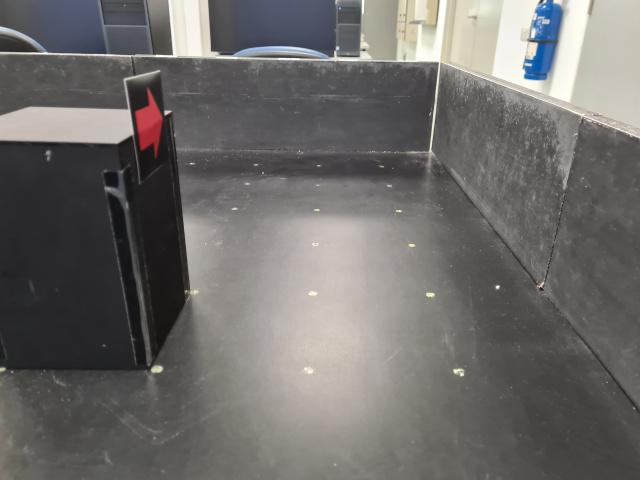left: (124, 69, 168, 184)
